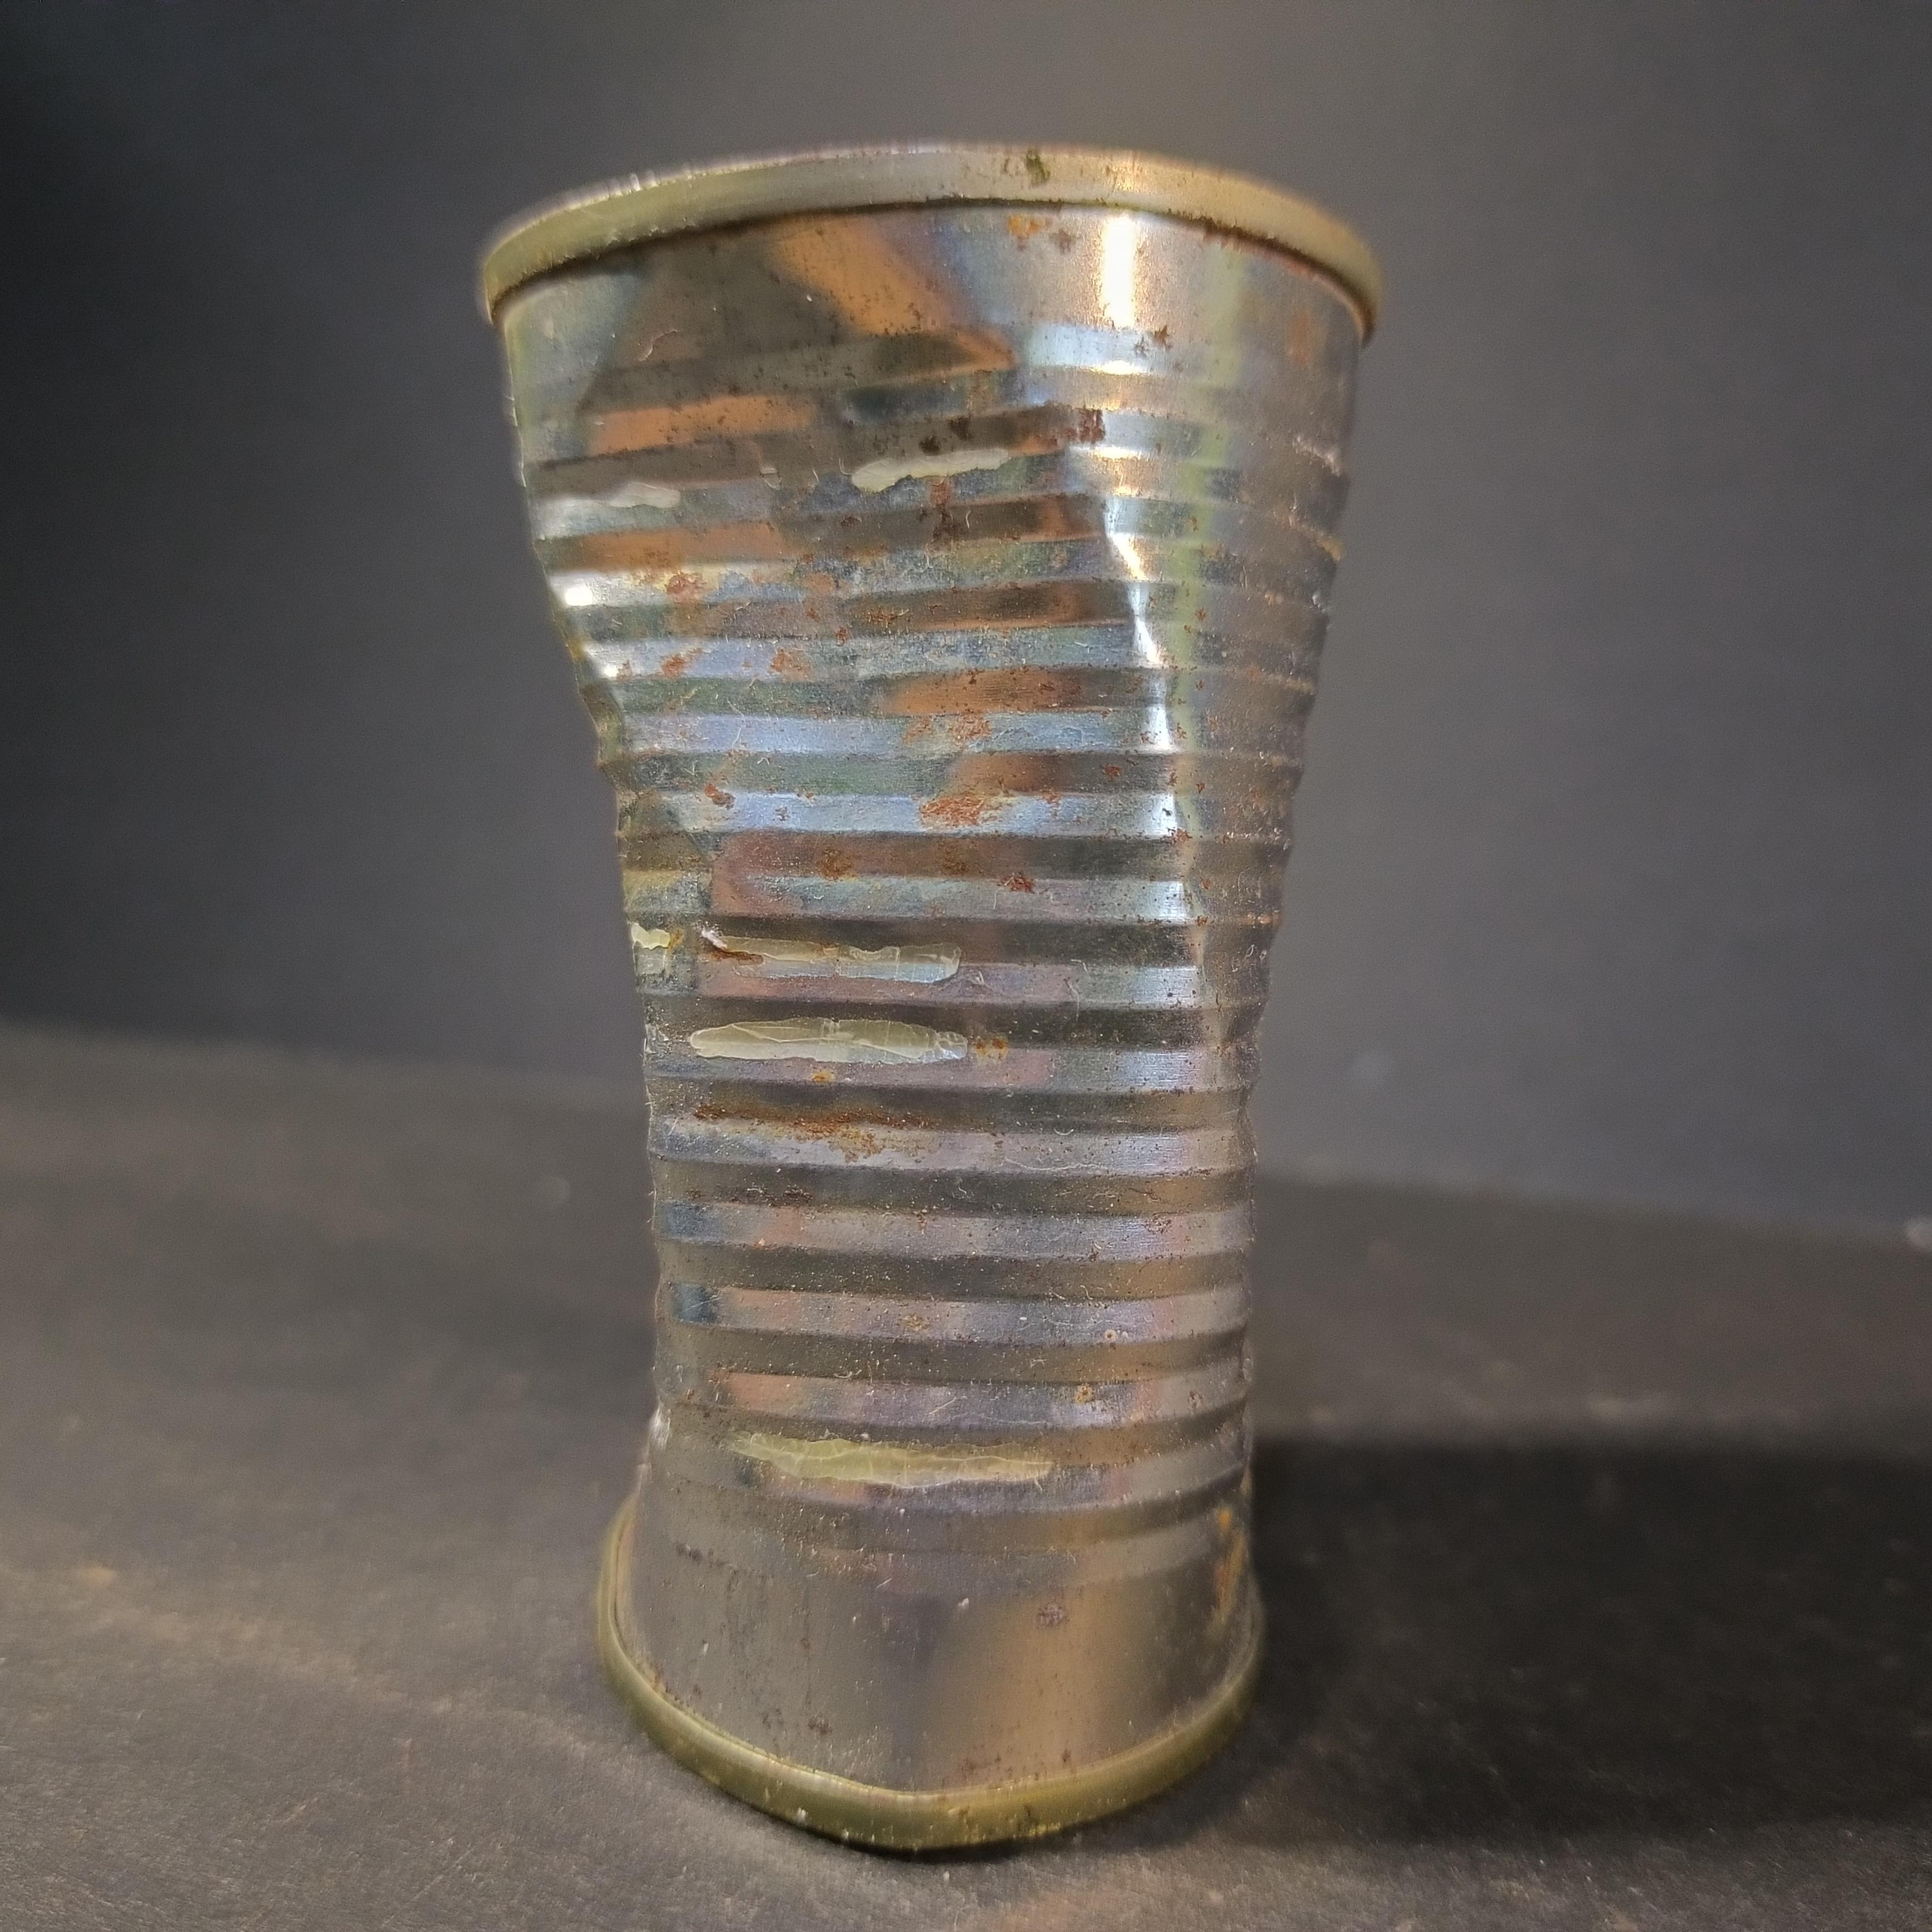Dented: (412, 101, 1424, 1904)
